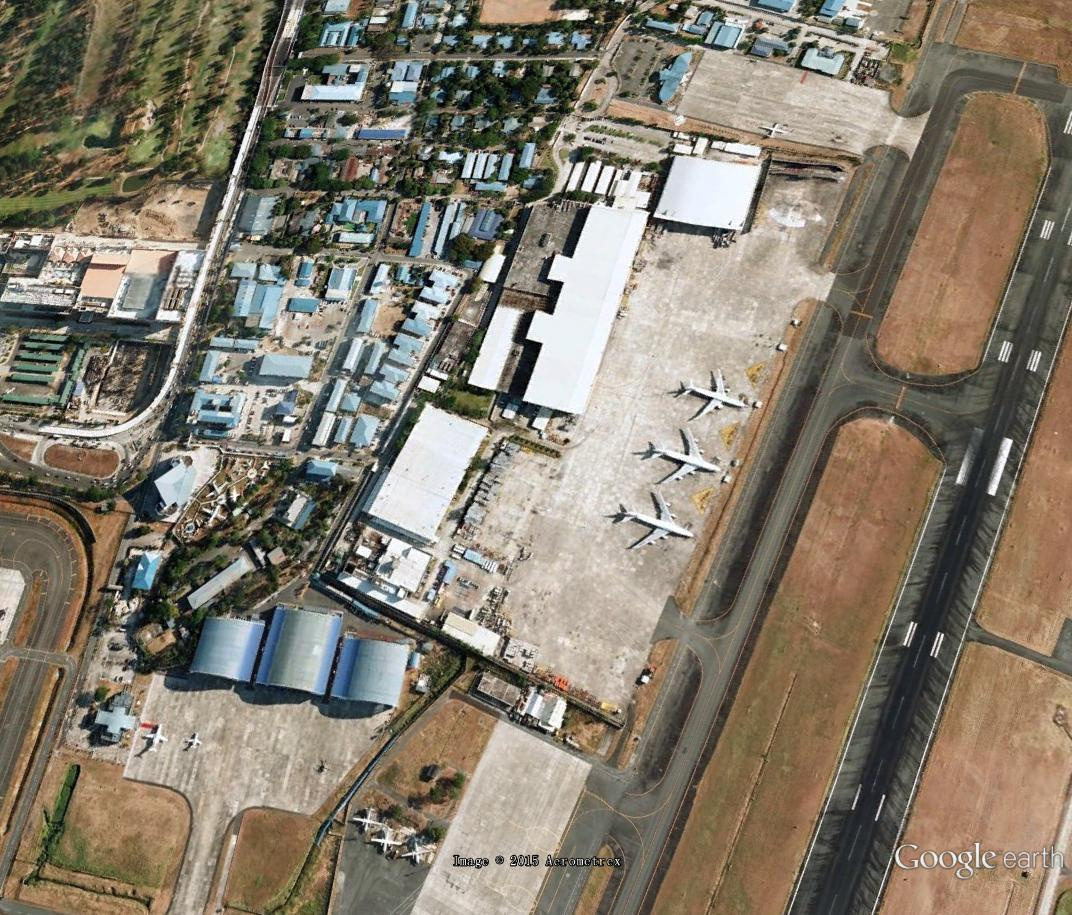aircraft: (610, 486, 700, 556), (645, 423, 732, 492), (675, 367, 757, 427), (346, 804, 380, 837), (367, 829, 404, 858), (401, 841, 439, 868), (142, 721, 169, 753), (182, 729, 205, 751)
